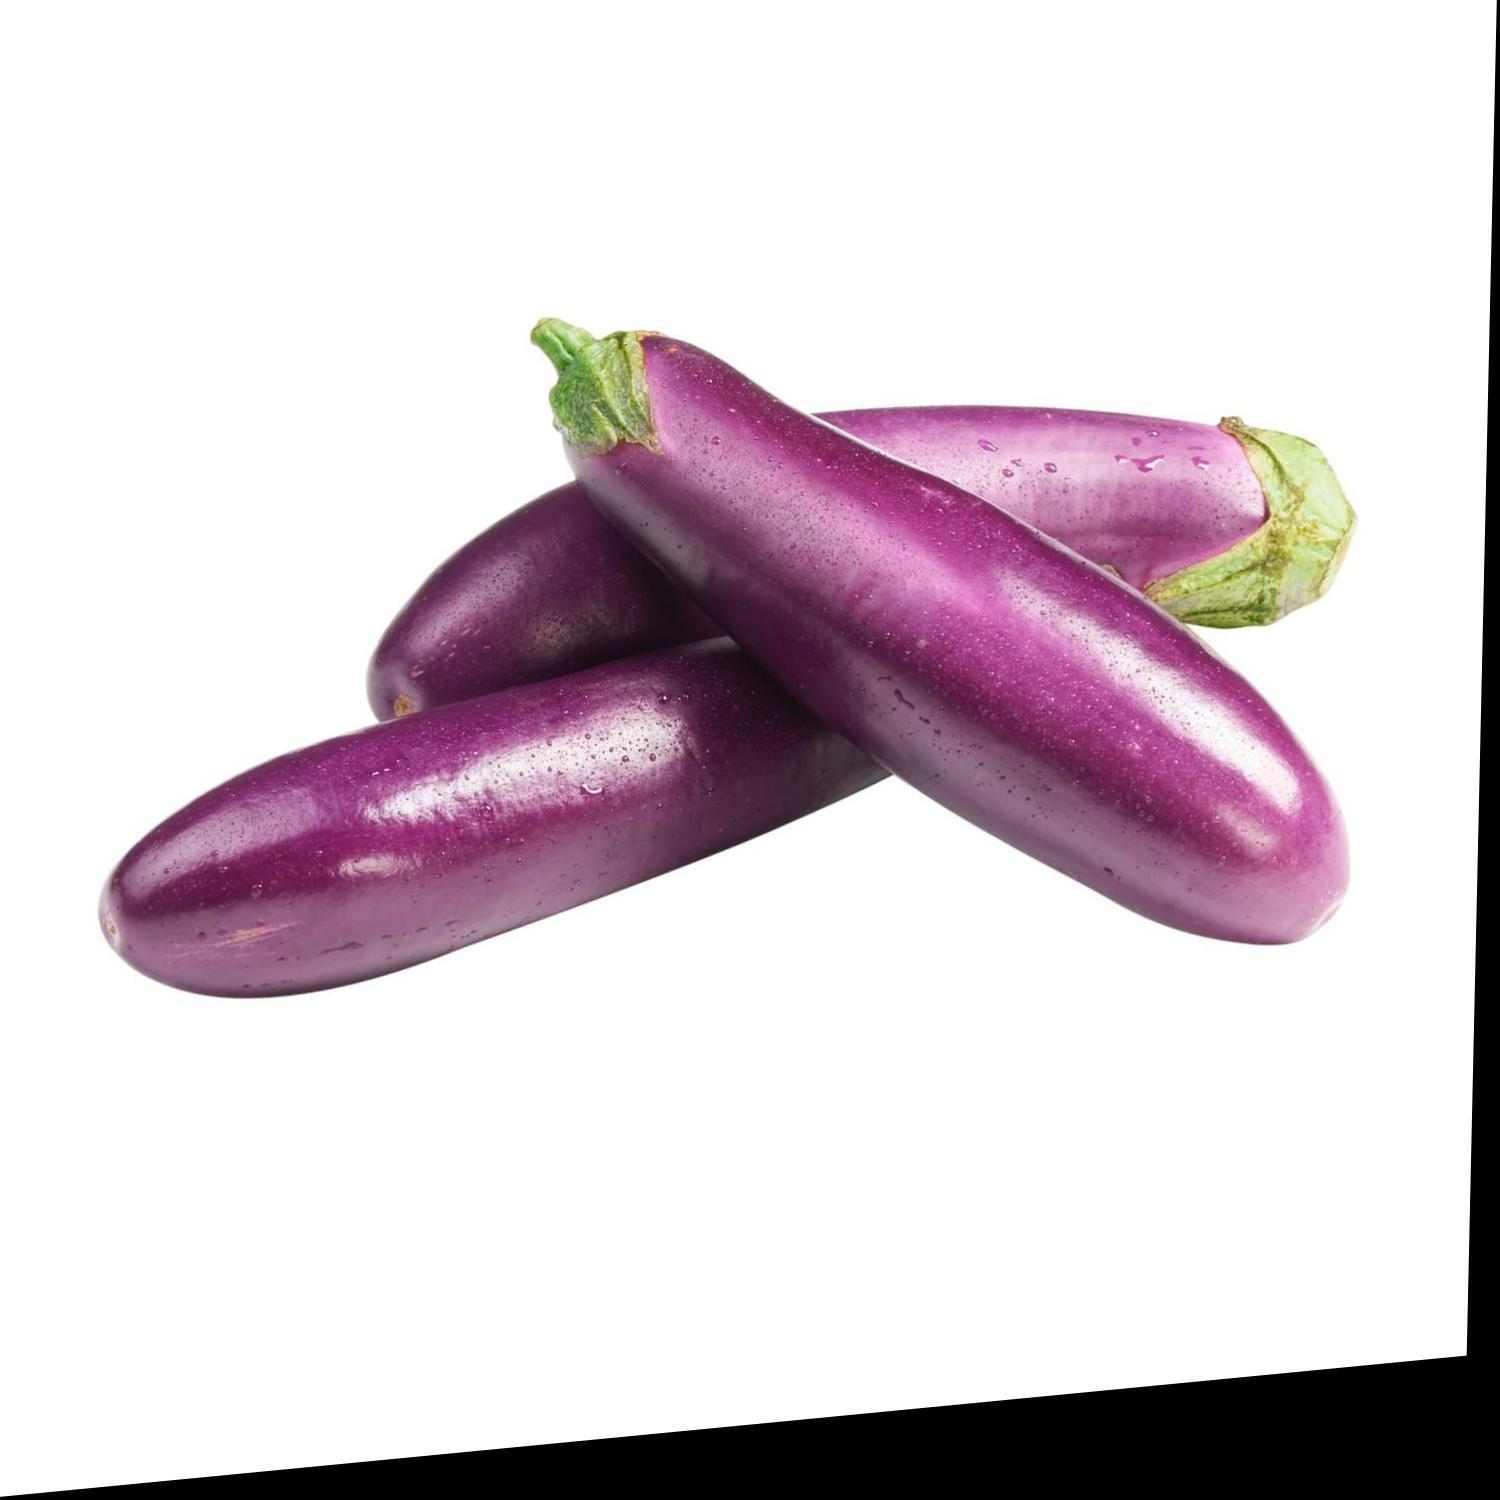eggplant: (78, 206, 1397, 1201)
